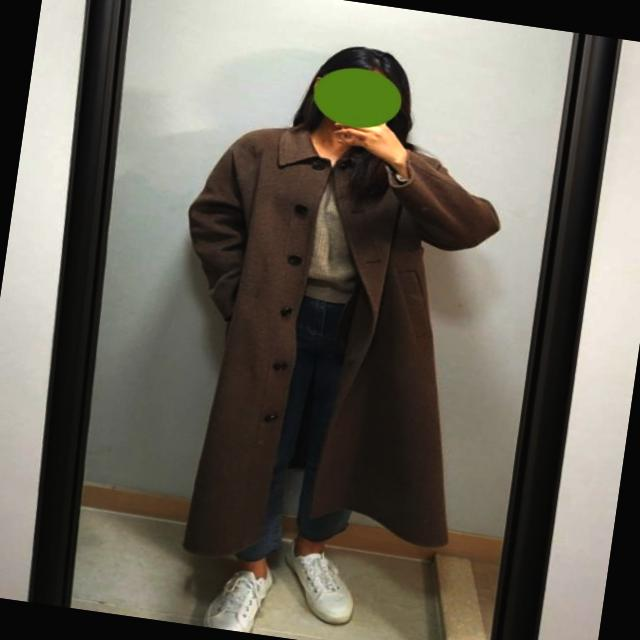coat: (138, 107, 512, 594)
denimpants: (219, 287, 383, 577)
